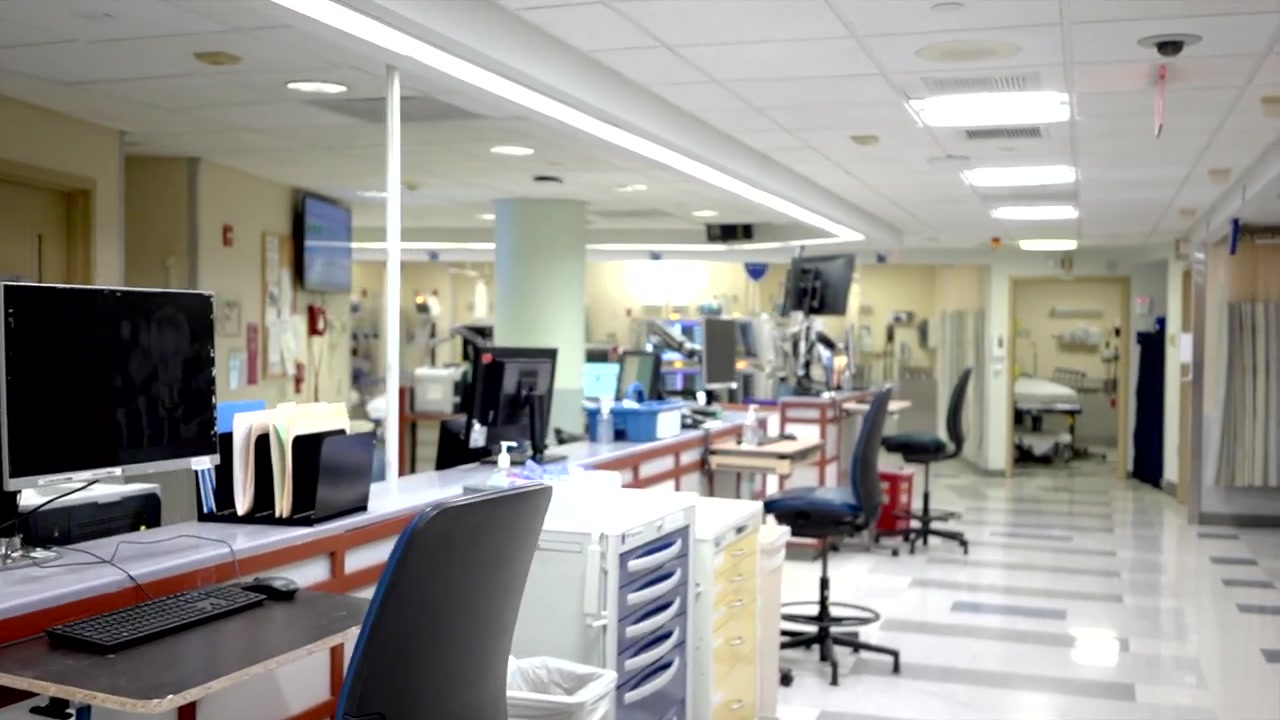TV: (289, 192, 358, 294), (783, 254, 853, 310)
bedrail: (1049, 366, 1086, 392)
chair: (334, 481, 553, 720), (766, 387, 907, 686), (882, 362, 974, 555)
computer: (1, 280, 218, 491), (471, 344, 561, 458), (705, 317, 741, 389), (614, 353, 658, 411)
curtain: (1214, 235, 1280, 491), (939, 310, 991, 467)
dispenser: (492, 438, 519, 491), (740, 403, 763, 452), (596, 398, 615, 445), (1179, 330, 1194, 383), (992, 332, 1006, 373)
drawer: (516, 485, 696, 719), (691, 497, 762, 719)
handle: (624, 652, 696, 701), (624, 625, 680, 670), (626, 568, 691, 605), (625, 596, 683, 637), (624, 541, 685, 572), (731, 696, 753, 720), (723, 633, 749, 651), (725, 546, 754, 560), (732, 571, 751, 587), (729, 600, 748, 614)
hospital_bed: (1012, 368, 1084, 462)
keyboard: (42, 584, 264, 652)
mouse: (247, 568, 302, 607)
waste_bin: (509, 649, 619, 720)
